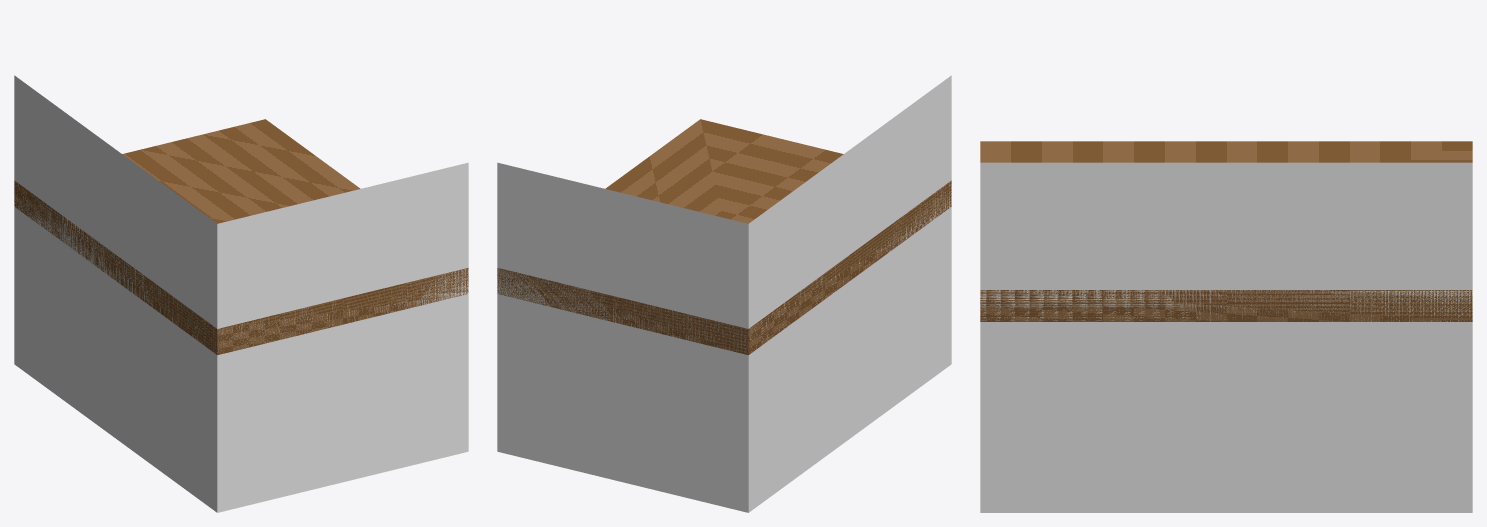
File: raft.glb
3 renders of one model, left to right at view 1: azimuth 30°, elevation 25°; view 2: azimuth 150°, elevation 25°; view 3: azimuth 270°, elevation 25°, orthographic. The views are drawn at different scales.
Parts seen in each view (by area): view 1: raft_col, raft; view 2: raft_col, raft; view 3: raft_col, raft.
Boxes of the visible parts, x1=… form: raft_col: x1=14, y1=75, x2=468, y2=512; raft: x1=14, y1=119, x2=468, y2=355; raft_col: x1=497, y1=75, x2=951, y2=512; raft: x1=497, y1=119, x2=951, y2=355; raft_col: x1=980, y1=162, x2=1472, y2=512; raft: x1=980, y1=141, x2=1472, y2=321.
Bounding box in the file's own units: 5 × 5.5 × 7.
Materials: 3 (1 with a texture image).
